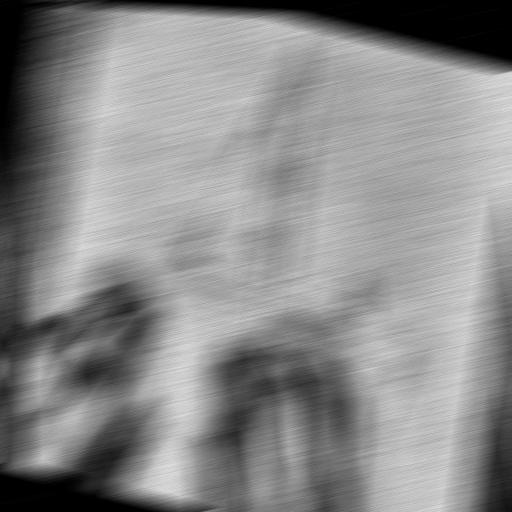boat: (93, 0, 469, 499)
